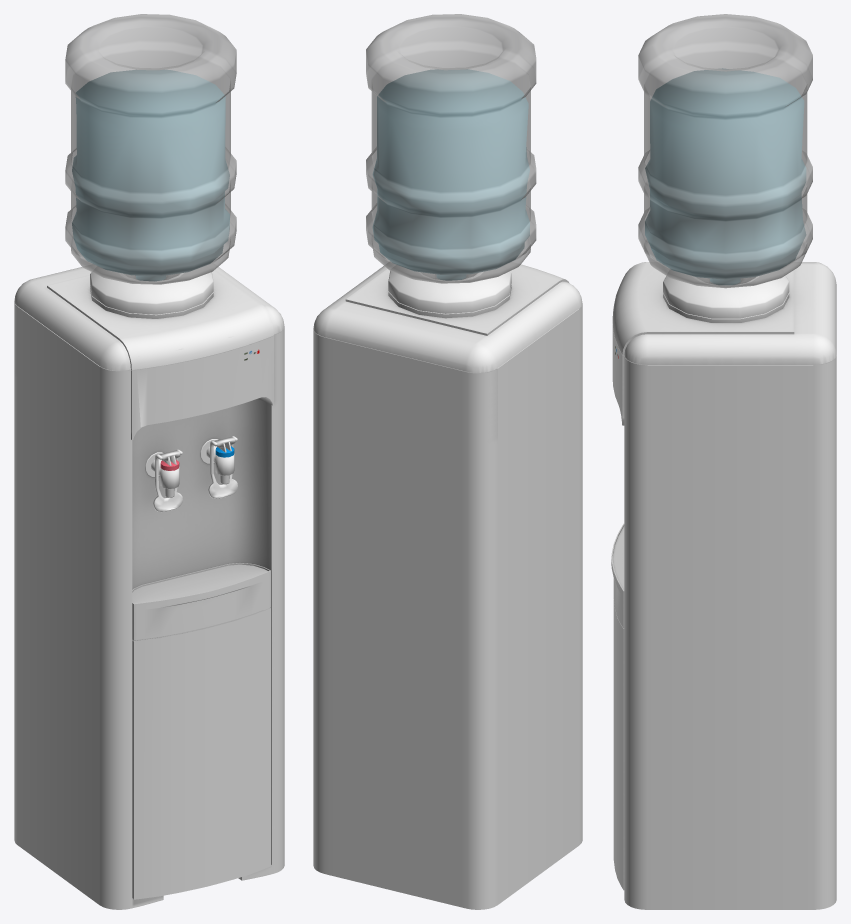
The model's file is Office_WaterCooler_1.fbx.
The picture shows the model from 3 angles, left to right: view 1: azimuth 30°, elevation 25°; view 2: azimuth 150°, elevation 25°; view 3: azimuth 270°, elevation 25°; orthographic projection.
Parts seen in each view (by area): view 1: Office_WaterCooler_1, Office_WaterCooler_1_Tank, Office_WaterCooler_1_Water; view 2: Office_WaterCooler_1, Office_WaterCooler_1_Tank, Office_WaterCooler_1_Water; view 3: Office_WaterCooler_1, Office_WaterCooler_1_Tank, Office_WaterCooler_1_Water.
Part boxes in pixels (left/top/right/bottom): Office_WaterCooler_1: left=14, top=263, right=284, bottom=909; Office_WaterCooler_1_Tank: left=65, top=14, right=236, bottom=284; Office_WaterCooler_1_Water: left=72, top=70, right=229, bottom=281; Office_WaterCooler_1: left=313, top=262, right=582, bottom=909; Office_WaterCooler_1_Tank: left=366, top=14, right=536, bottom=283; Office_WaterCooler_1_Water: left=372, top=69, right=529, bottom=280; Office_WaterCooler_1: left=611, top=262, right=836, bottom=909; Office_WaterCooler_1_Tank: left=638, top=14, right=812, bottom=288; Office_WaterCooler_1_Water: left=645, top=68, right=805, bottom=284.
Bounding box in the file's own units: 33.07 × 141 × 35.04.
